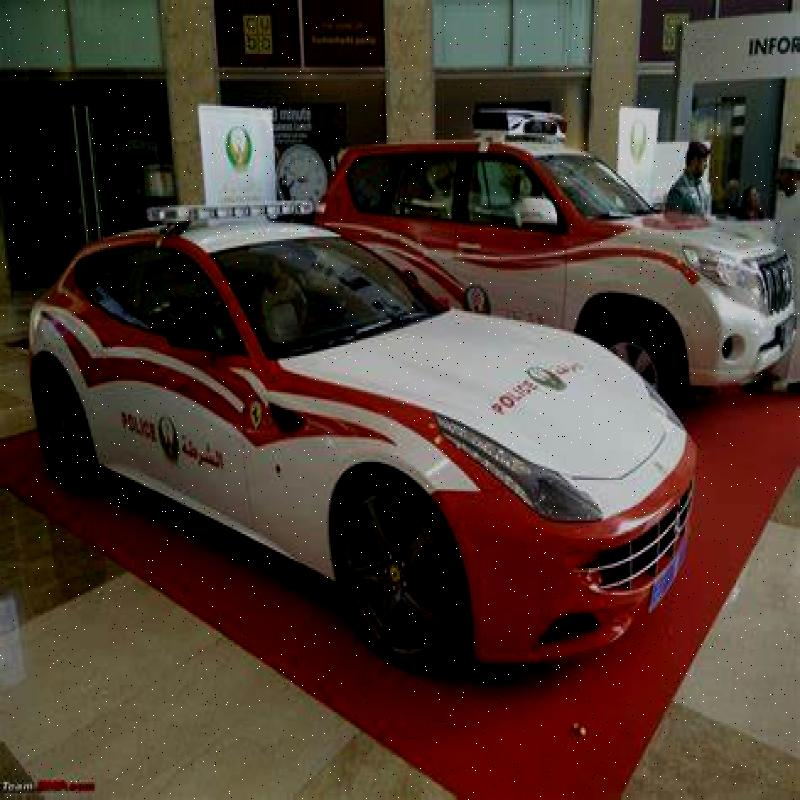AmbulanceSiren: (143, 196, 346, 223)
